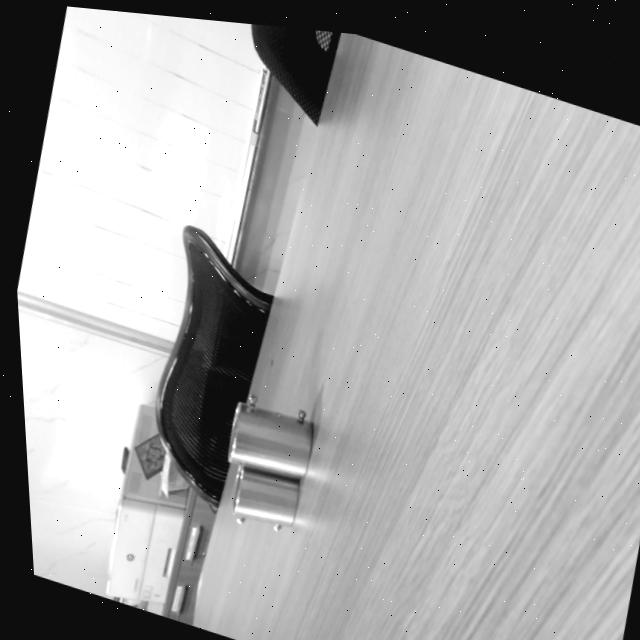Co_Lon: (220, 395, 320, 483)
Co_Nho: (226, 462, 301, 535)
